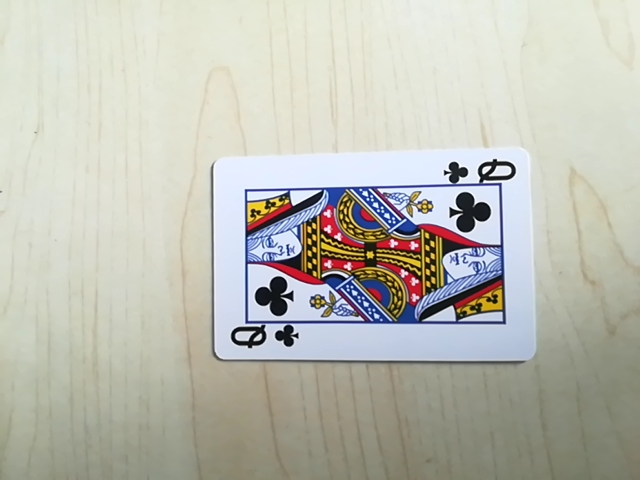mh q: (224, 320, 298, 359), (444, 156, 522, 186)
